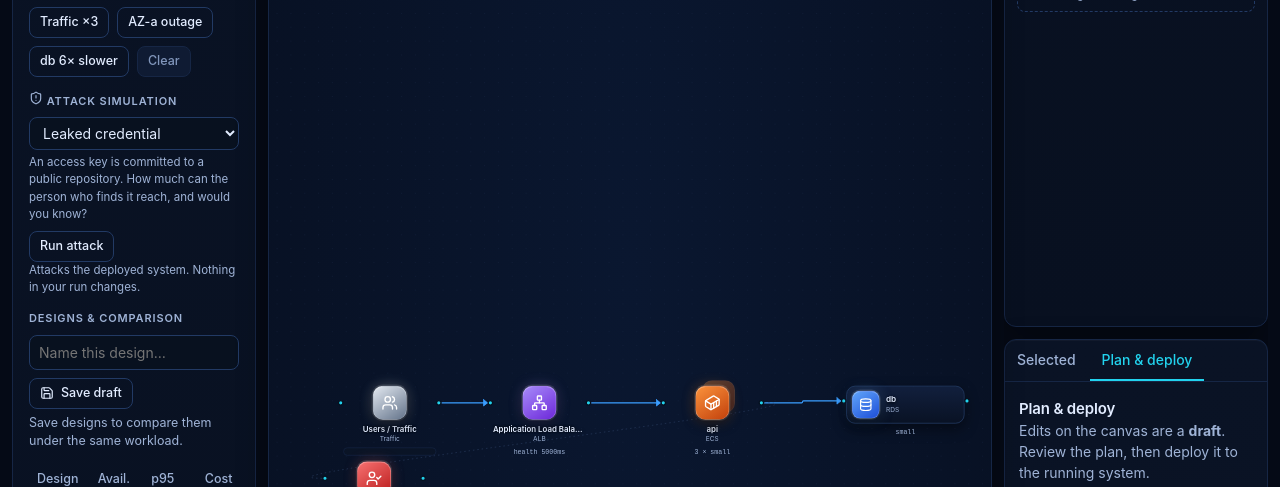
Test case: attack panel in the Lab › shows the breach timeline, the fixes, and marks the blast radius on the canvas
(page scrolled)
Click the button "Run attack" at (72, 246), box x1=29 y1=231 x2=114 y2=262
(page scrolled)
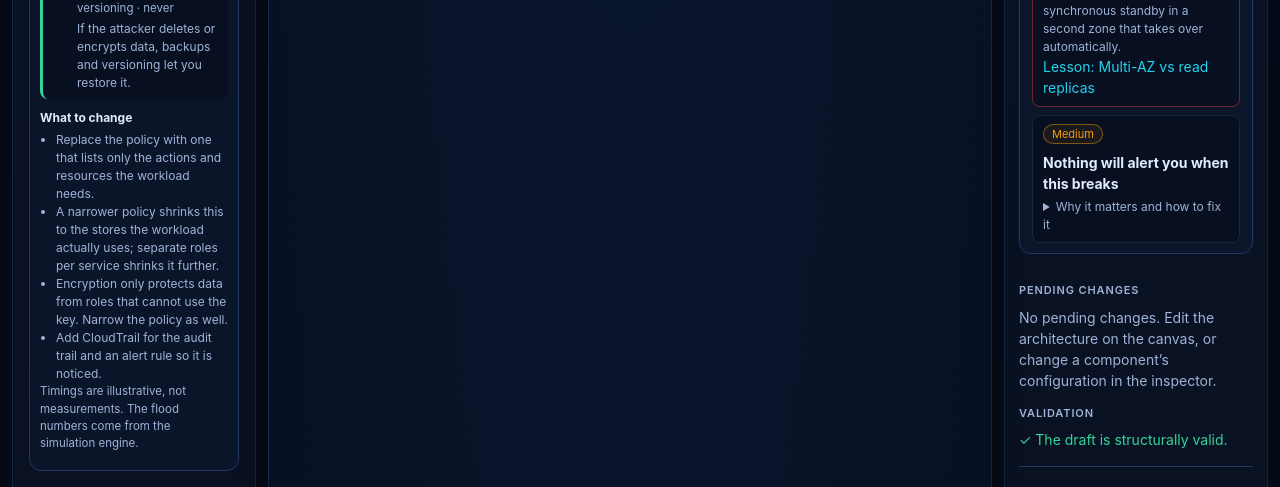
Now the element with class "ar-todo" shows "What to change", box x1=40 y1=110 x2=132 y2=125
